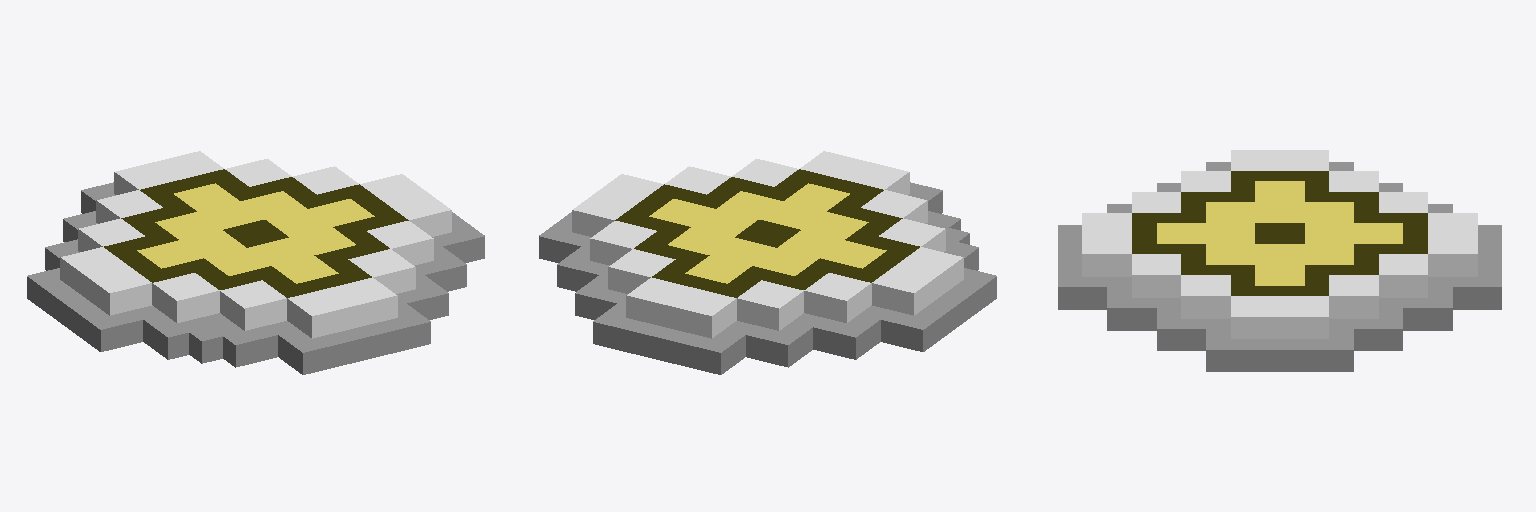
3 views of the same model, side by side, from view 1: azimuth 30°, elevation 25°; view 2: azimuth 150°, elevation 25°; view 3: azimuth 270°, elevation 25° (orthographic).
Parts seen in each view (by area): view 1: object 1; view 2: object 1; view 3: object 1.
Part boxes in pixels (bbox=[...]): object 1: bbox=[27, 151, 484, 374]; object 1: bbox=[539, 151, 996, 374]; object 1: bbox=[1058, 150, 1501, 371].
Size of the model in its own units: 3.6 by 0.4 by 3.6.
1 materials, 1 textured.